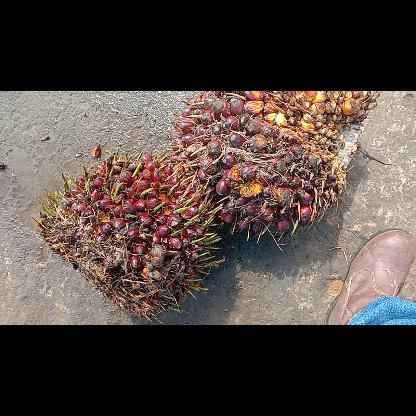Kurang masak: (37, 152, 221, 324)
TBS masak: (168, 91, 380, 239)
